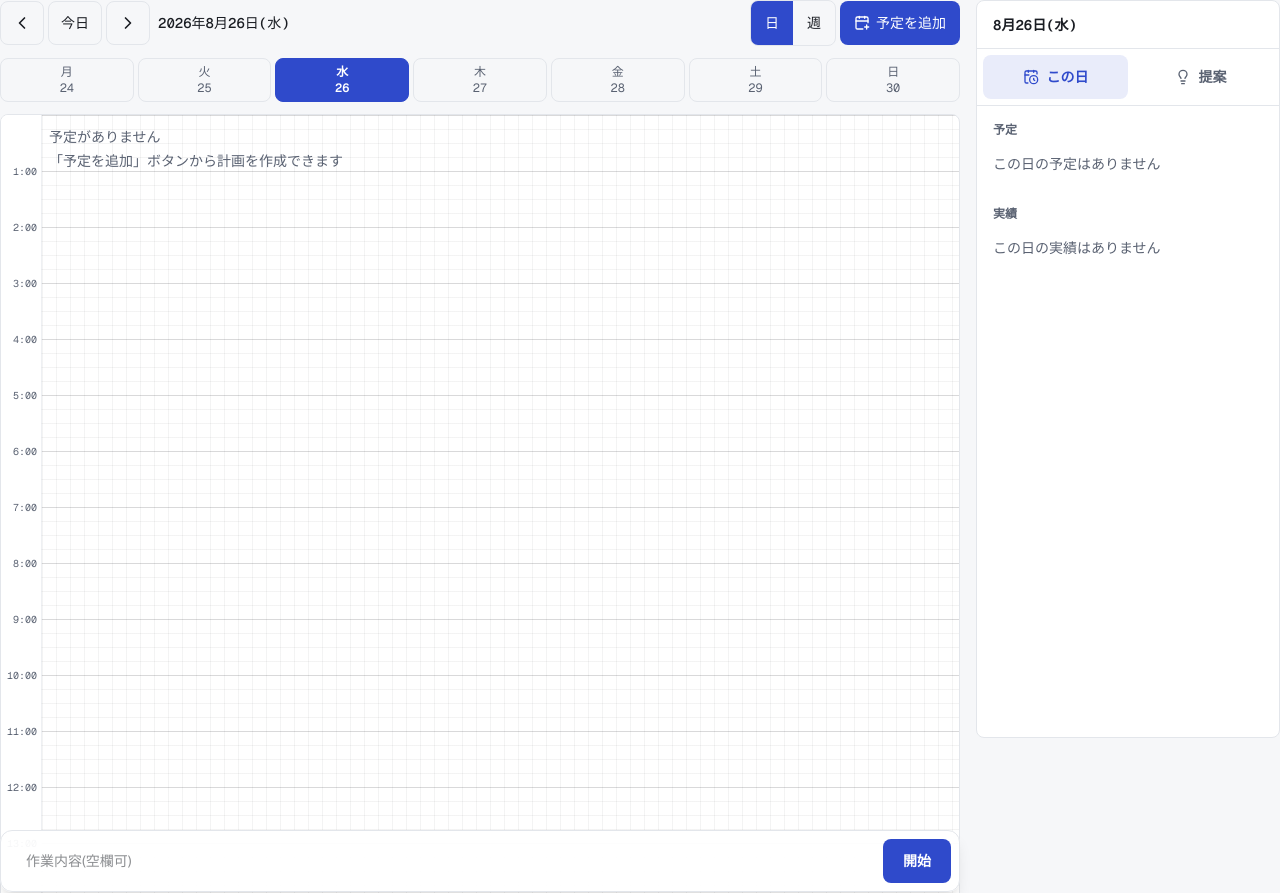
Test case: メモ化と遅延ロードの非退行(S9〜S12) › S12: 遅延ロードされた予定作成パネルが開き、フォーカスがパネル内へ移る
What coordinates should you click on to do the following:
click the button "予定を追加"
I would click on:
 (900, 23)
Its box is top-left (840, 1), bottom-right (960, 45).
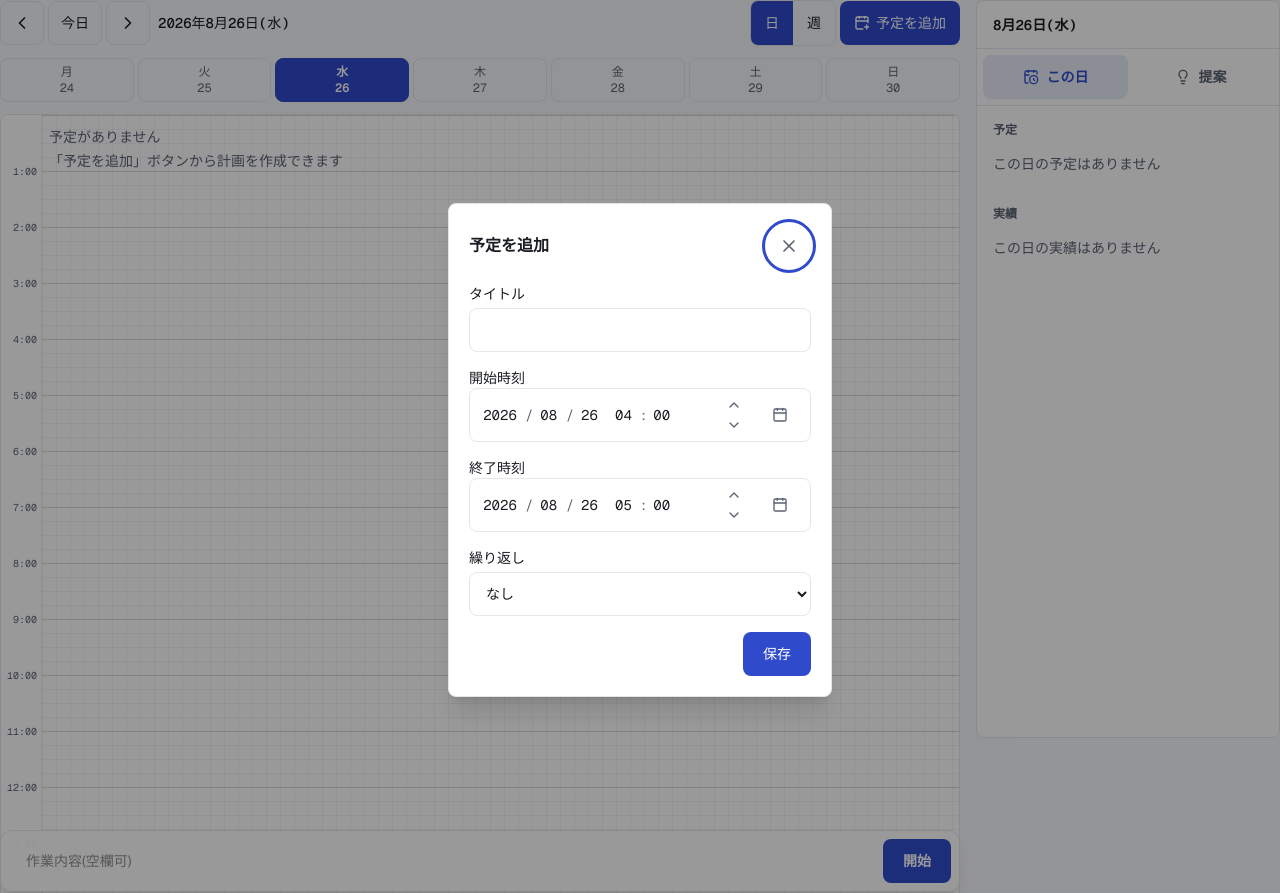
Check: the dialog is shown, box top-left (448, 203), bottom-right (832, 697)
